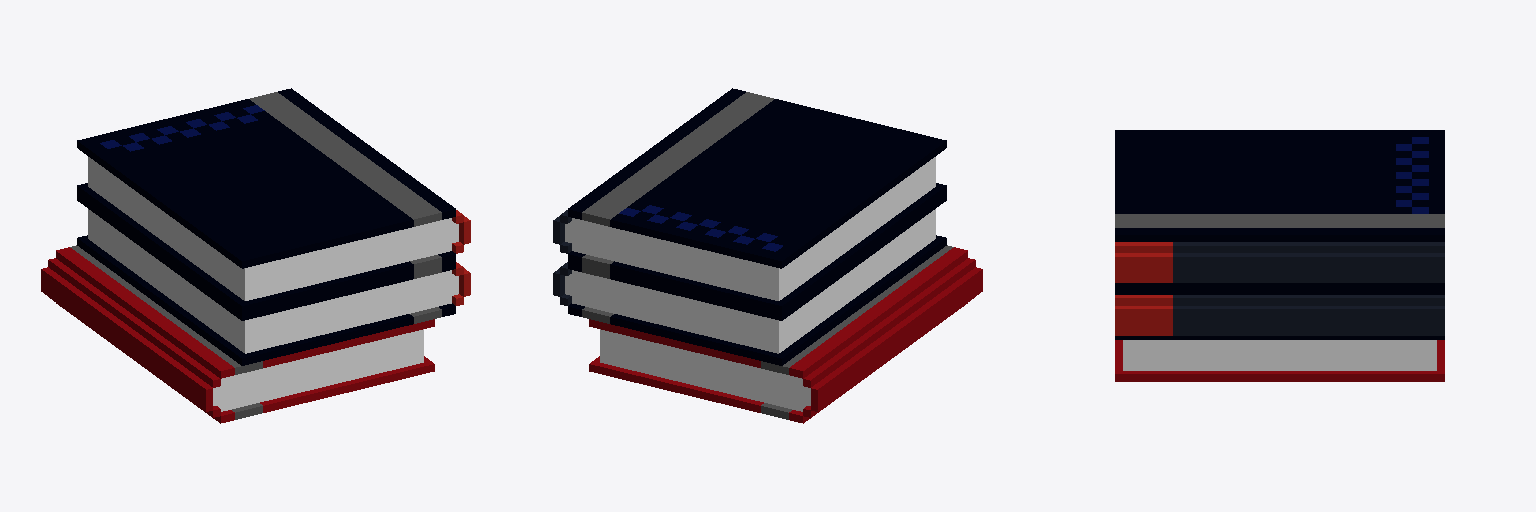
Rendered from Book03.obj.
The picture shows the model from 3 angles: view 1: azimuth 30°, elevation 25°; view 2: azimuth 150°, elevation 25°; view 3: azimuth 270°, elevation 25°; orthographic projection.
Parts seen in each view (by area): view 1: Book03; view 2: Book03; view 3: Book03.
Part boxes in pixels (left/top/right/bottom): Book03: left=41, top=88, right=470, bottom=423; Book03: left=553, top=88, right=982, bottom=423; Book03: left=1115, top=130, right=1444, bottom=381.
Bounding box in the file's own units: 2.31 × 1.31 × 2.5.